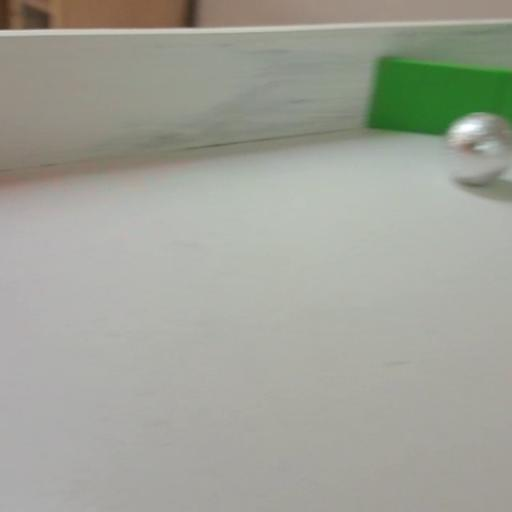alive: (443, 110, 510, 182)
